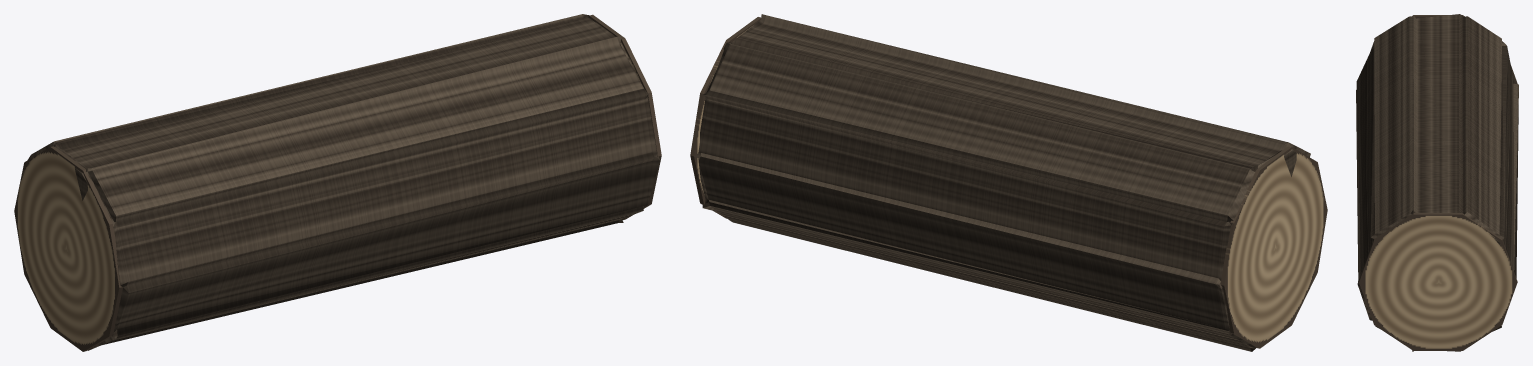
Rendered from log.glb.
3 renders of one model, left to right at view 1: azimuth 30°, elevation 25°; view 2: azimuth 150°, elevation 25°; view 3: azimuth 270°, elevation 25°, orthographic. The views are drawn at different scales.
Visible parts, largest first — view 1: Log; view 2: Log; view 3: Log.
Boxes of the visible parts, box(x1,y1,x2,y2) form: Log: box(14, 14, 661, 351); Log: box(690, 14, 1327, 351); Log: box(1356, 14, 1518, 351).
Bounding box in the file's own units: 1.42 × 0.4718 × 0.4886.
Materials: 2 (2 with a texture image).
